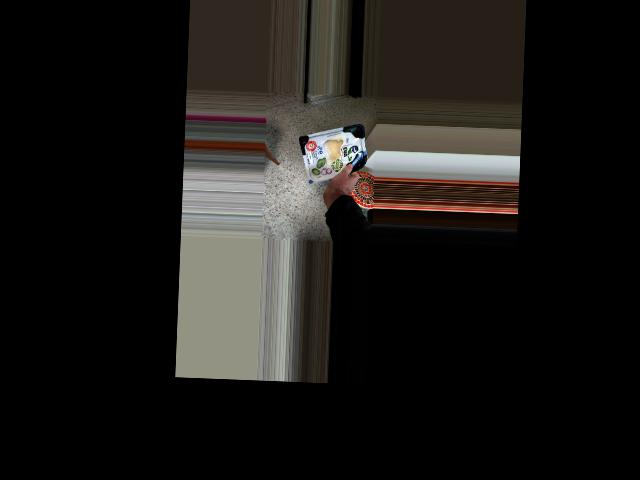cheese: (300, 121, 369, 185)
